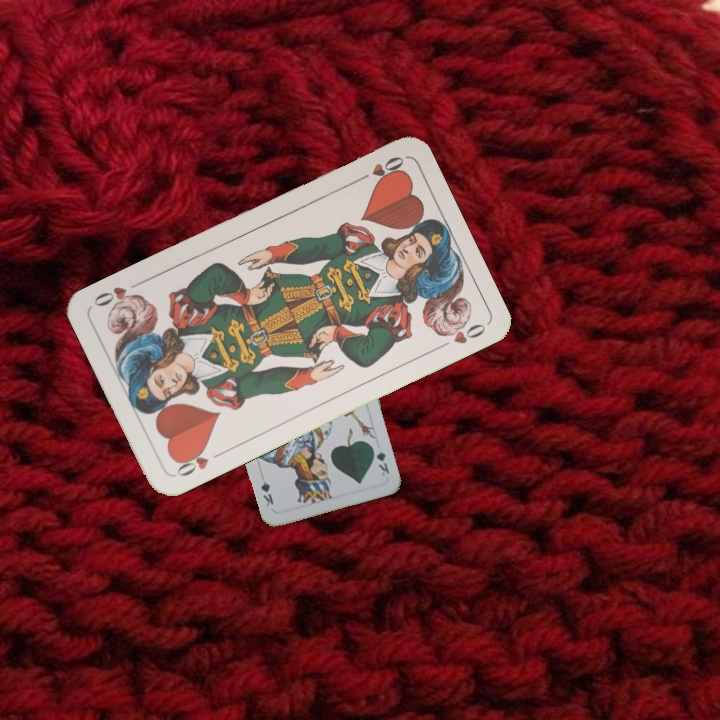GK: (368, 441, 392, 479)
HO: (171, 443, 226, 479), (351, 152, 407, 186)
